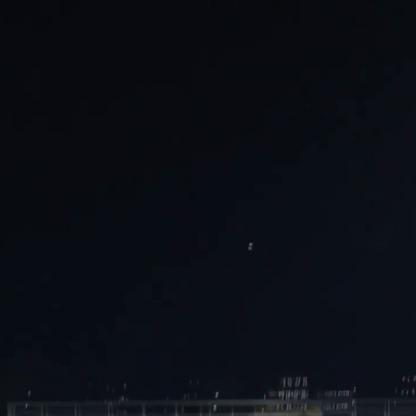ball: (244, 245, 256, 253), (246, 240, 258, 246)
